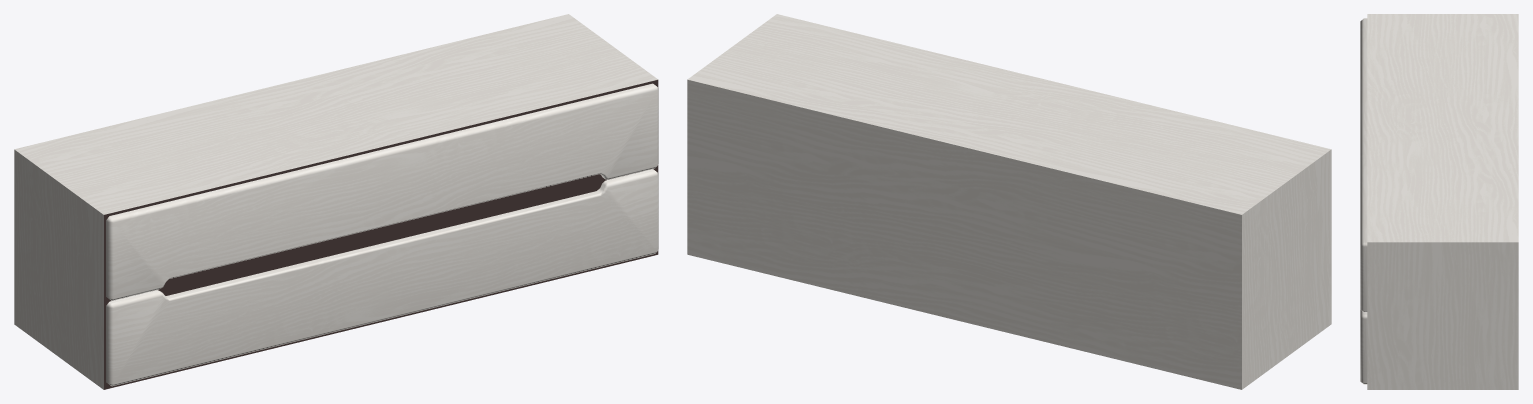
File: wall_cabinet_024.fbx
3 renders of one model, left to right at view 1: azimuth 30°, elevation 25°; view 2: azimuth 150°, elevation 25°; view 3: azimuth 270°, elevation 25°, orthographic. The views are drawn at different scales.
Parts seen in each view (by area): view 1: wall_cabinet_024; view 2: wall_cabinet_024; view 3: wall_cabinet_024.
Part boxes in pixels (x1,y1,x2,y2): wall_cabinet_024: [14, 14, 658, 389]; wall_cabinet_024: [687, 14, 1331, 389]; wall_cabinet_024: [1360, 14, 1518, 389].
Bounding box in the file's own units: 227 × 66.51 × 68.37.
